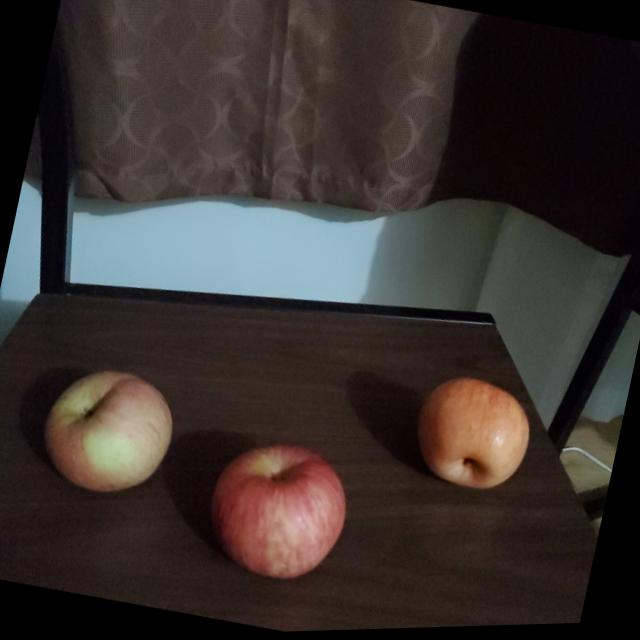apple: (204, 437, 361, 596), (34, 356, 184, 505), (406, 369, 538, 500)
